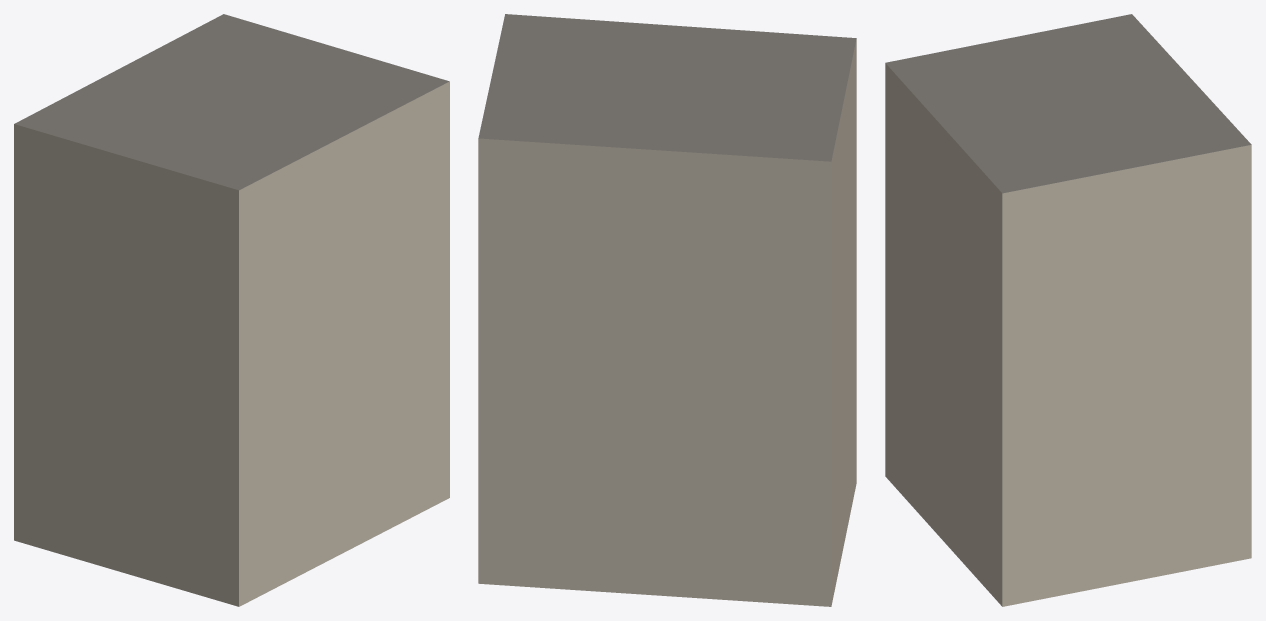
3 views of the same model, side by side, from view 1: azimuth 30°, elevation 25°; view 2: azimuth 150°, elevation 25°; view 3: azimuth 270°, elevation 25° (orthographic). The views are drawn at different scales.
Parts seen in each view (by area): view 1: HP-w505659420; view 2: HP-w505659420; view 3: HP-w505659420.
Boxes of the visible parts, box(x1,y1,x2,y2) form: HP-w505659420: box(14, 14, 449, 606); HP-w505659420: box(478, 14, 856, 606); HP-w505659420: box(885, 14, 1251, 606).
Size of the model in its own units: 16.75 by 18 by 14.46.
